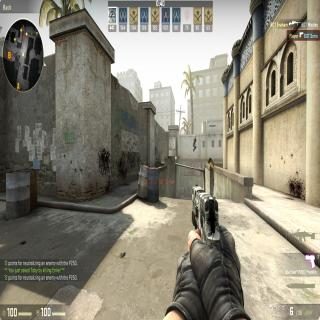T-Body: (192, 139, 195, 151)
T-Head: (193, 138, 195, 141)
